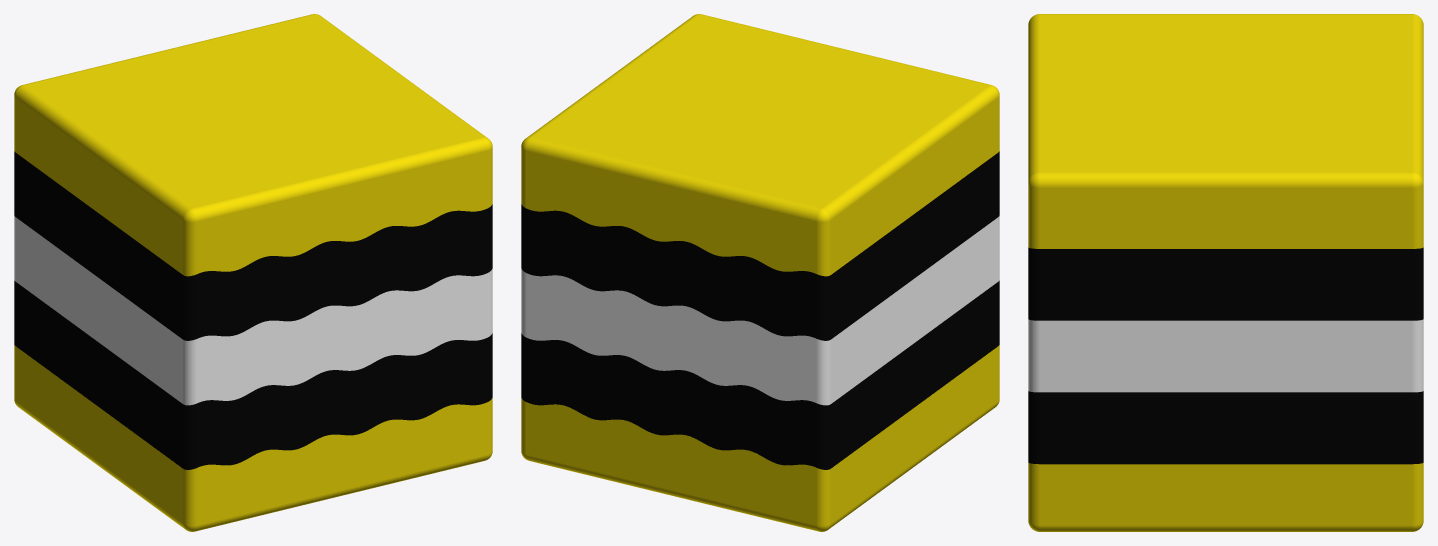
Rendered from liquorice_allsort_box_and_lid_100_v7_yellow.glb.
3 views of the same model, side by side, from view 1: azimuth 30°, elevation 25°; view 2: azimuth 150°, elevation 25°; view 3: azimuth 270°, elevation 25° (orthographic). The views are drawn at different scales.
Parts seen in each view (by area): view 1: liquorice_allsort_box_and_lid_100_v7_5, liquorice_allsort_box_and_lid_100_v7_4, liquorice_allsort_box_and_lid_100_v7_2, liquorice_allsort_box_and_lid_100_v7_3, liquorice_allsort_box_and_lid_100_v7_1; view 2: liquorice_allsort_box_and_lid_100_v7_5, liquorice_allsort_box_and_lid_100_v7_4, liquorice_allsort_box_and_lid_100_v7_2, liquorice_allsort_box_and_lid_100_v7_3, liquorice_allsort_box_and_lid_100_v7_1; view 3: liquorice_allsort_box_and_lid_100_v7_5, liquorice_allsort_box_and_lid_100_v7_3, liquorice_allsort_box_and_lid_100_v7_2, liquorice_allsort_box_and_lid_100_v7_4, liquorice_allsort_box_and_lid_100_v7_1.
Boxes of the visible parts, x1=… form: liquorice_allsort_box_and_lid_100_v7_5: x1=14, y1=14, x2=492, y2=276; liquorice_allsort_box_and_lid_100_v7_4: x1=14, y1=151, x2=492, y2=340; liquorice_allsort_box_and_lid_100_v7_2: x1=14, y1=280, x2=492, y2=469; liquorice_allsort_box_and_lid_100_v7_3: x1=14, y1=216, x2=492, y2=405; liquorice_allsort_box_and_lid_100_v7_1: x1=14, y1=345, x2=492, y2=531; liquorice_allsort_box_and_lid_100_v7_5: x1=521, y1=14, x2=999, y2=276; liquorice_allsort_box_and_lid_100_v7_4: x1=521, y1=151, x2=999, y2=340; liquorice_allsort_box_and_lid_100_v7_2: x1=521, y1=280, x2=999, y2=469; liquorice_allsort_box_and_lid_100_v7_3: x1=521, y1=216, x2=999, y2=405; liquorice_allsort_box_and_lid_100_v7_1: x1=521, y1=345, x2=999, y2=531; liquorice_allsort_box_and_lid_100_v7_5: x1=1028, y1=14, x2=1423, y2=248; liquorice_allsort_box_and_lid_100_v7_3: x1=1028, y1=319, x2=1423, y2=392; liquorice_allsort_box_and_lid_100_v7_2: x1=1028, y1=391, x2=1423, y2=464; liquorice_allsort_box_and_lid_100_v7_4: x1=1028, y1=247, x2=1423, y2=320; liquorice_allsort_box_and_lid_100_v7_1: x1=1028, y1=463, x2=1423, y2=531.
Size of the model in its own units: 10 by 10 by 10.
